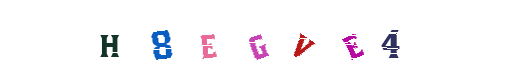4: (265, 0, 345, 80)
8: (189, 0, 269, 80)
E: (194, 0, 274, 80), (262, 0, 342, 80)
G: (200, 0, 280, 80)
H: (121, 0, 201, 80)
V: (223, 0, 303, 80)
